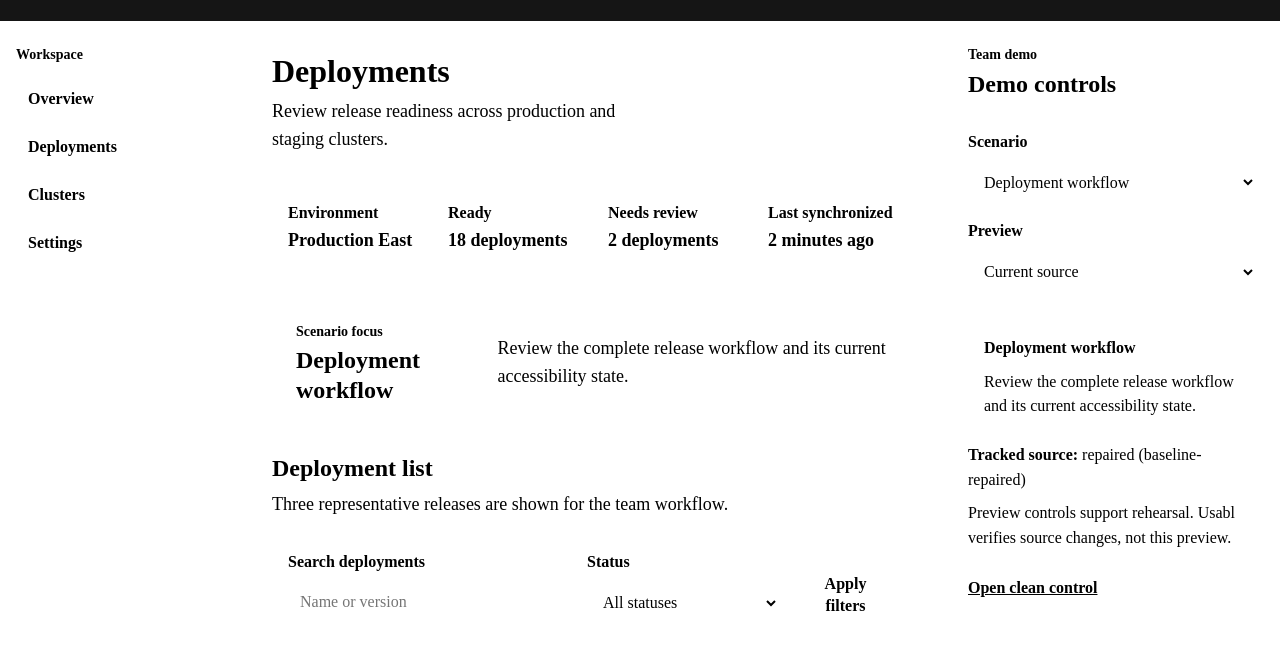
Test case: application shell › applies deployment filters to the workflow table
Type "console" into the search field labelled "Search deployments". click: point(430, 603)
box: [288,581,571,625]
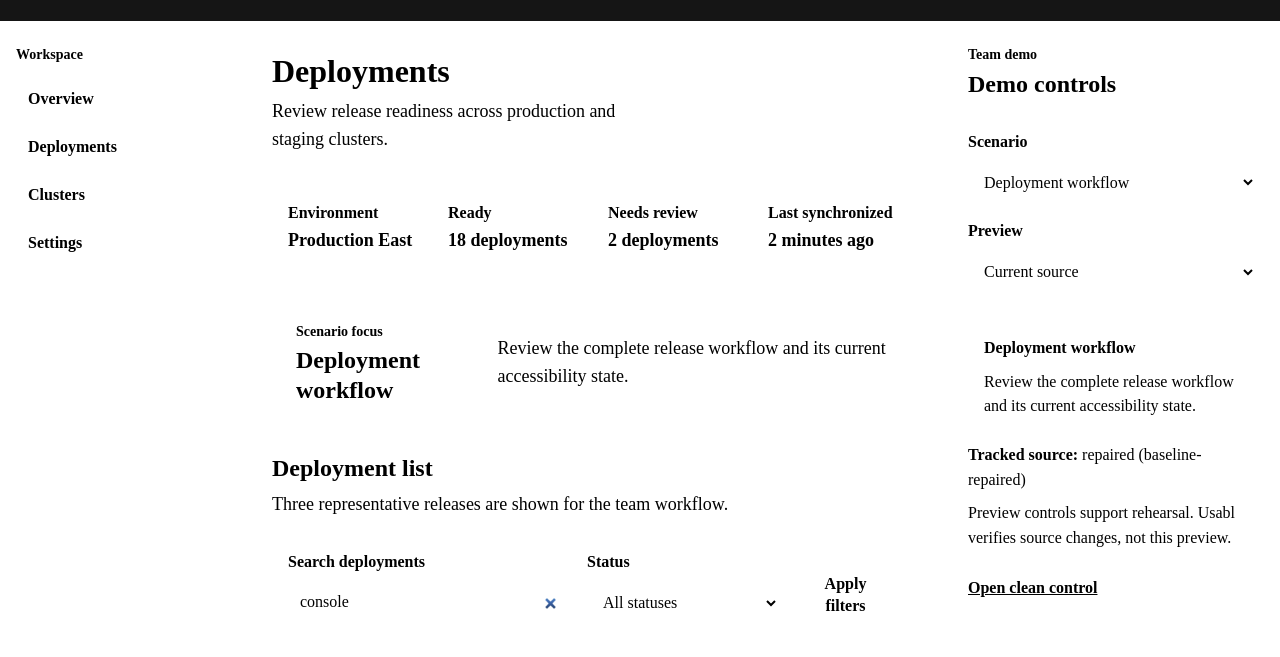
Click the button "Apply filters". click: point(846, 595)
box: [795,566,896,625]
(page scrolled)
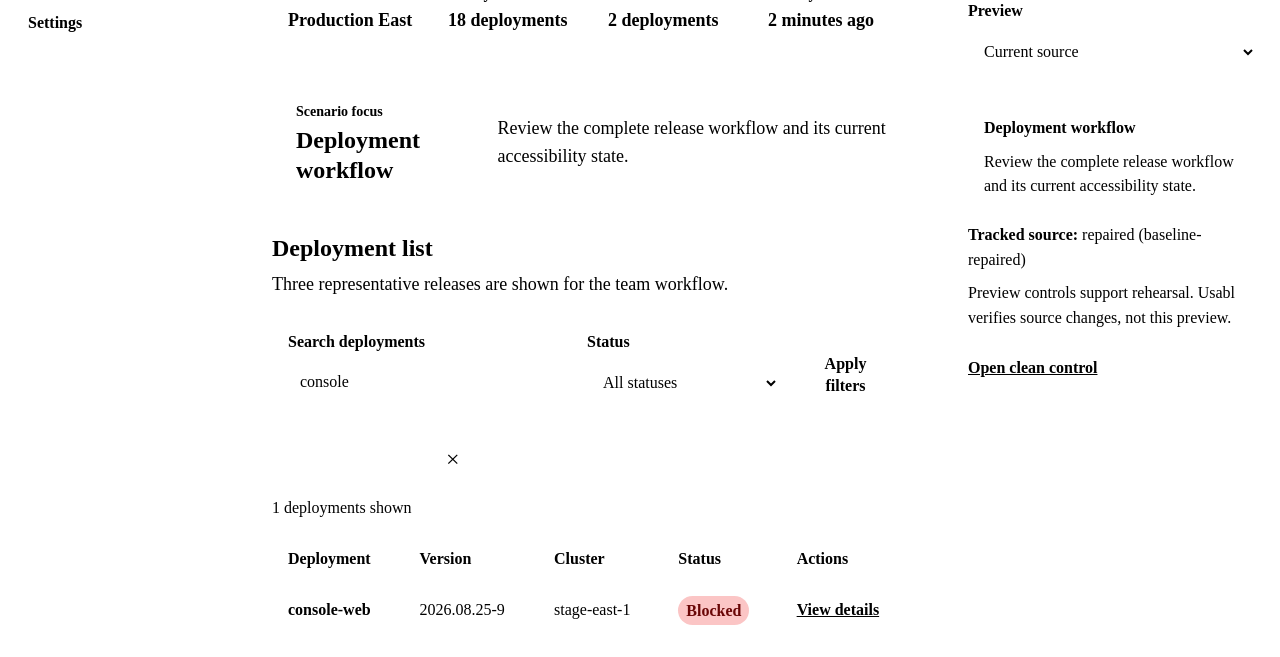
Expected: the column heading "console-web" is shown, [272,584,404,637]
Expected: the text "1 deployments shown" is shown, [272,499,412,516]
